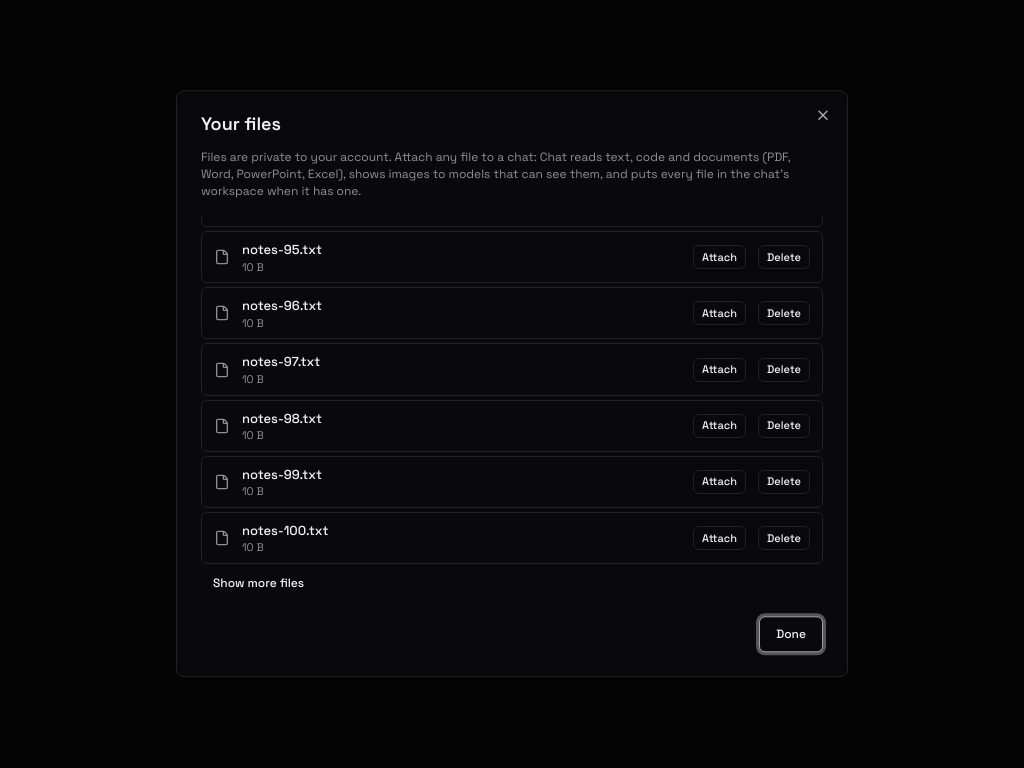
Test case: the Files dialog shows a page and loads the next on request
The width and height of the screenshot is (1024, 768).
(page scrolled)
Step 1. Click the button "Show more files" → (259, 584), box [201, 568, 316, 600]
(page scrolled)
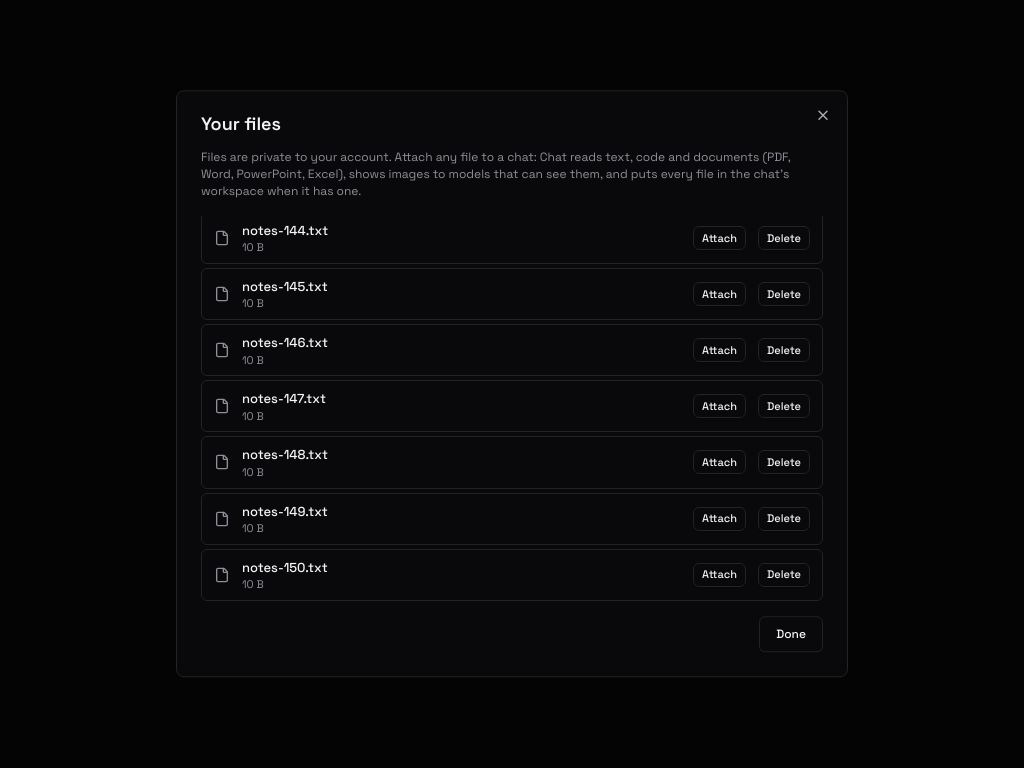
Result: the heading "notes-150.txt" is shown at [242, 559, 328, 576]
Result: the button "Show more files" is gone
